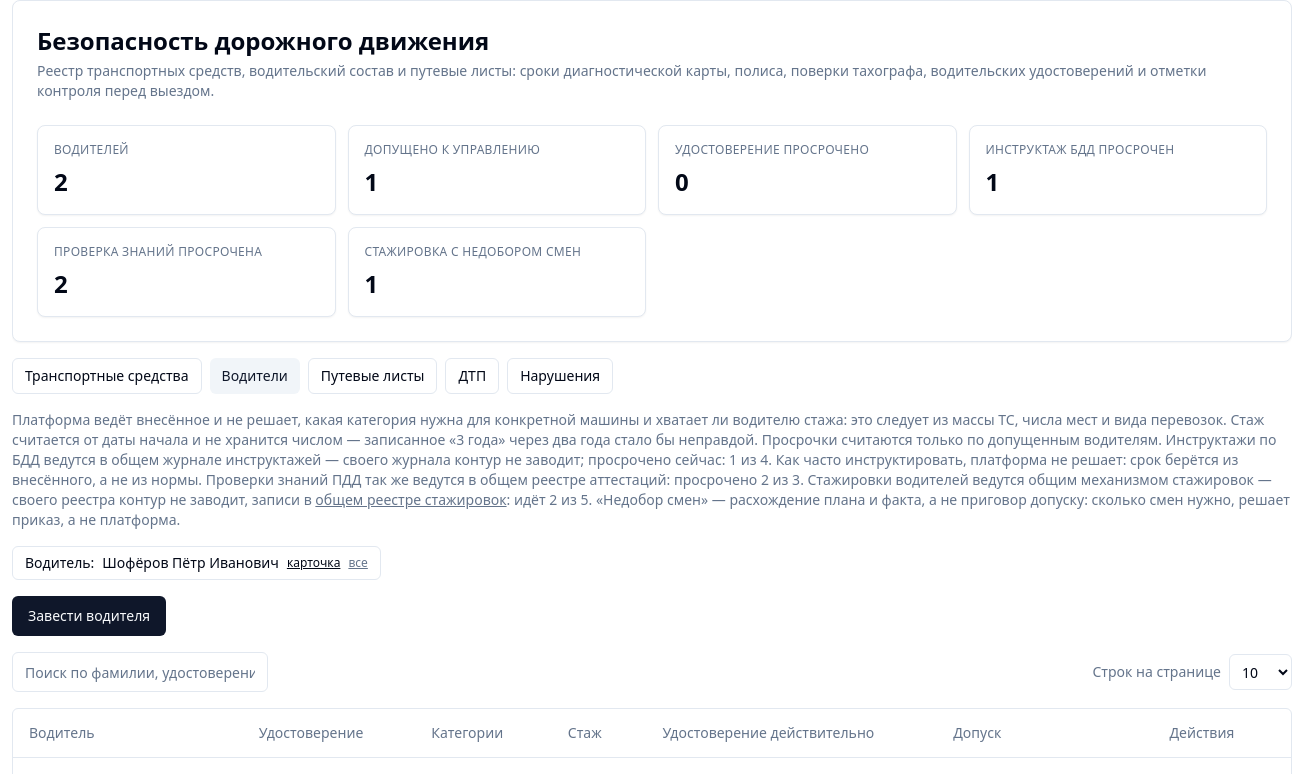
Test: RoadSafetyPage › открывается на водителе по ссылке из карточки сотрудника (срез-67)
Check: the element with test id "road-safety-person-filter" shows "Водитель: Шофёров Пётр Иванович", box [12, 546, 381, 580]
Click the button with aria-label "Показать всех водителей".
click(358, 563)  # box [348, 555, 368, 571]
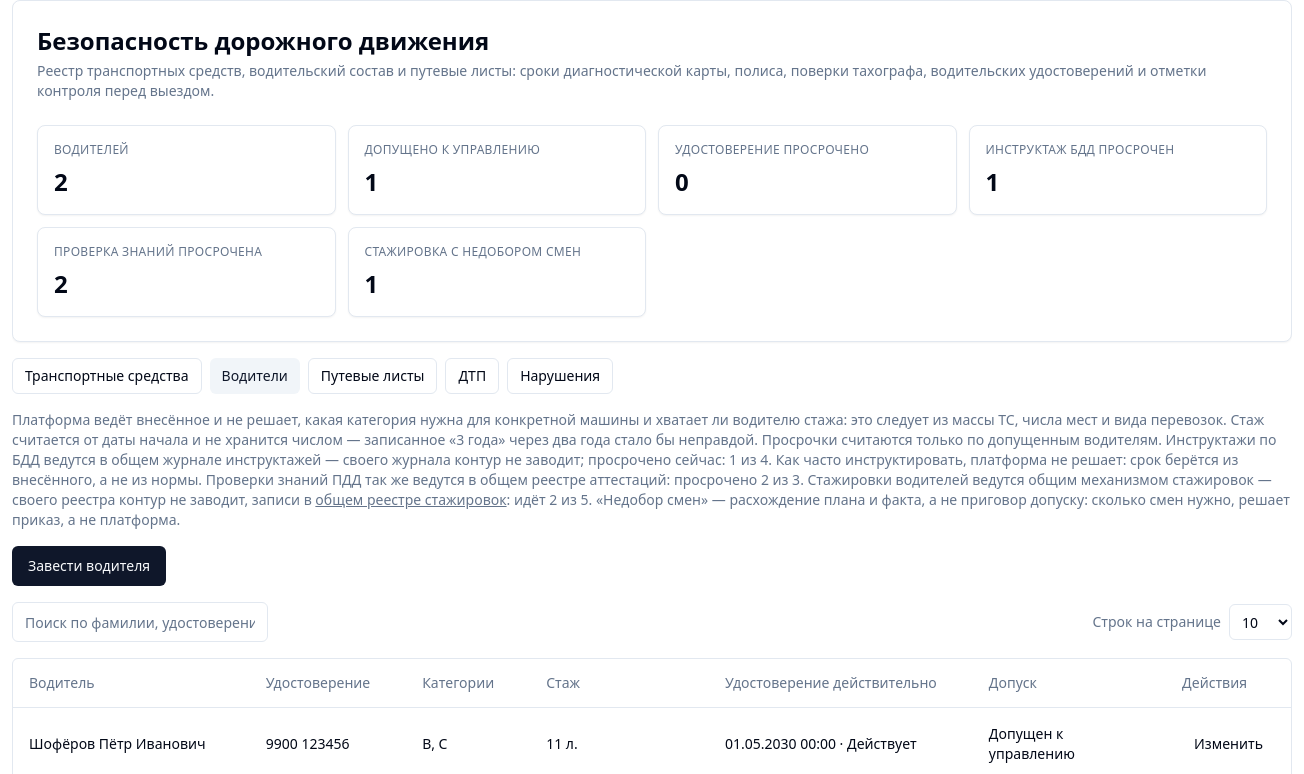
Check: the element with test id "road-safety-person-filter" is gone
